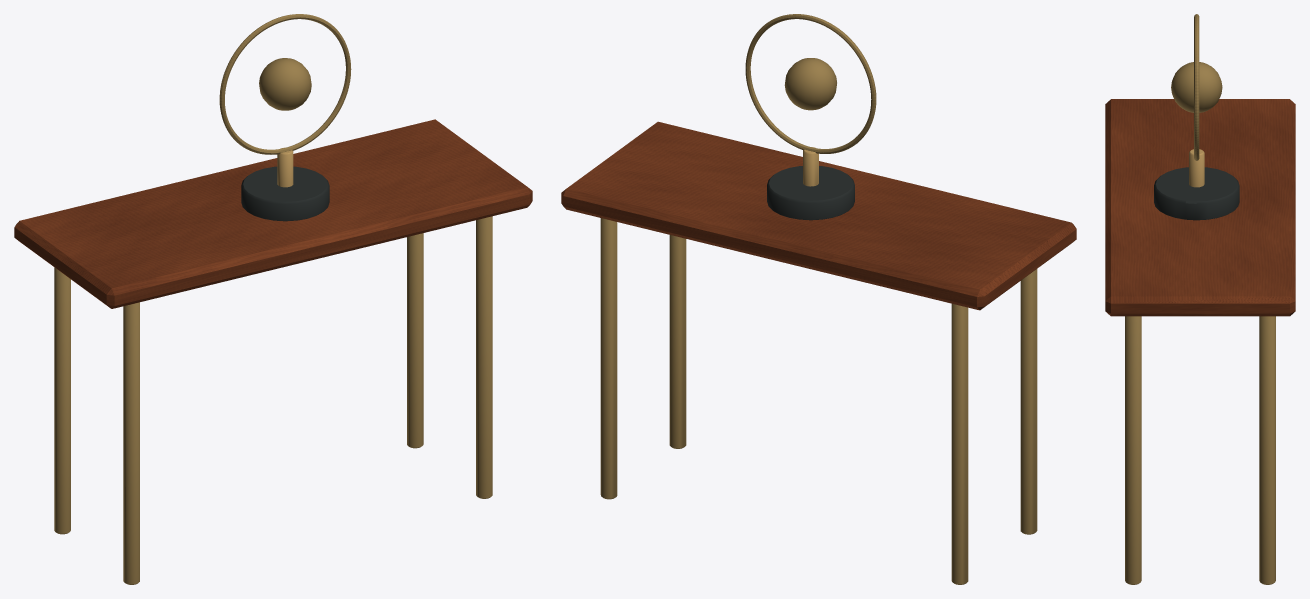
The model's file is entry-console.glb.
The picture shows the model from 3 angles, left to right: view 1: azimuth 30°, elevation 25°; view 2: azimuth 150°, elevation 25°; view 3: azimuth 270°, elevation 25°; orthographic projection. The views are drawn at different scales.
Visible parts, largest first — view 1: part::entry-console/entry-console-top-001, part::entry-console/entry-console-leg-004, part::entry-console/entry-console-leg-002, part::entry-console/entry-console-leg-001, part::armillary/armillary-foot-001, part::entry-console/entry-console-leg-003, part::armillary/armillary-earth-001, part::armillary/antique-brass-armillary-ring-002, part::armillary/antique-brass-armillary-ring-003, part::armillary/antique-brass-armillary-ring-001; view 2: part::entry-console/entry-console-top-001, part::entry-console/entry-console-leg-001, part::entry-console/entry-console-leg-003, part::entry-console/entry-console-leg-002, part::entry-console/entry-console-leg-004, part::armillary/armillary-foot-001, part::armillary/armillary-earth-001, part::armillary/antique-brass-armillary-ring-002, part::armillary/antique-brass-armillary-ring-003, part::armillary/antique-brass-armillary-ring-001; view 3: part::entry-console/entry-console-top-001, part::entry-console/entry-console-leg-003, part::entry-console/entry-console-leg-004, part::armillary/armillary-foot-001, part::armillary/armillary-earth-001, part::armillary/armillary-pedestal-001, part::armillary/antique-brass-armillary-ring-002, part::armillary/antique-brass-armillary-ring-003, part::armillary/antique-brass-armillary-ring-001.
Part boxes in pixels (x1,y1,x2,y2): part::entry-console/entry-console-top-001: [14, 119, 532, 308]; part::entry-console/entry-console-leg-004: [476, 216, 492, 498]; part::entry-console/entry-console-leg-002: [123, 302, 139, 584]; part::entry-console/entry-console-leg-001: [54, 267, 70, 534]; part::armillary/armillary-foot-001: [241, 166, 329, 221]; part::entry-console/entry-console-leg-003: [407, 233, 423, 448]; part::armillary/armillary-earth-001: [259, 58, 311, 110]; part::armillary/antique-brass-armillary-ring-002: [219, 14, 350, 154]; part::armillary/antique-brass-armillary-ring-003: [219, 14, 350, 154]; part::armillary/antique-brass-armillary-ring-001: [219, 14, 351, 154]; part::entry-console/entry-console-top-001: [561, 121, 1076, 310]; part::entry-console/entry-console-leg-001: [951, 303, 968, 584]; part::entry-console/entry-console-leg-003: [600, 218, 617, 499]; part::entry-console/entry-console-leg-002: [1020, 269, 1037, 534]; part::entry-console/entry-console-leg-004: [669, 235, 686, 448]; part::armillary/armillary-foot-001: [767, 166, 854, 220]; part::armillary/armillary-earth-001: [784, 58, 836, 110]; part::armillary/antique-brass-armillary-ring-002: [745, 14, 876, 153]; part::armillary/antique-brass-armillary-ring-003: [745, 14, 876, 153]; part::armillary/antique-brass-armillary-ring-001: [745, 14, 876, 153]; part::entry-console/entry-console-top-001: [1105, 99, 1295, 316]; part::entry-console/entry-console-leg-003: [1259, 316, 1275, 584]; part::entry-console/entry-console-leg-004: [1125, 316, 1141, 584]; part::armillary/armillary-foot-001: [1154, 167, 1239, 220]; part::armillary/armillary-earth-001: [1171, 62, 1222, 112]; part::armillary/armillary-pedestal-001: [1189, 149, 1204, 187]; part::armillary/antique-brass-armillary-ring-002: [1194, 14, 1199, 160]; part::armillary/antique-brass-armillary-ring-003: [1194, 14, 1199, 160]; part::armillary/antique-brass-armillary-ring-001: [1194, 14, 1199, 160].
Size of the model in its own units: 1.28 by 1.43 by 0.51.
Materials: 4 (1 with a texture image).
